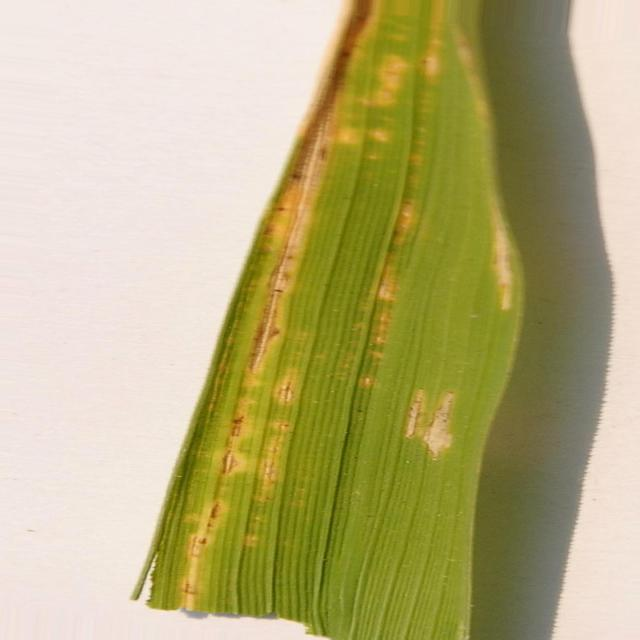Bacterial_Leaf_Blight: (274, 0, 374, 292), (404, 389, 458, 460), (492, 209, 516, 311), (251, 300, 276, 369), (275, 376, 296, 405), (221, 450, 238, 475)
